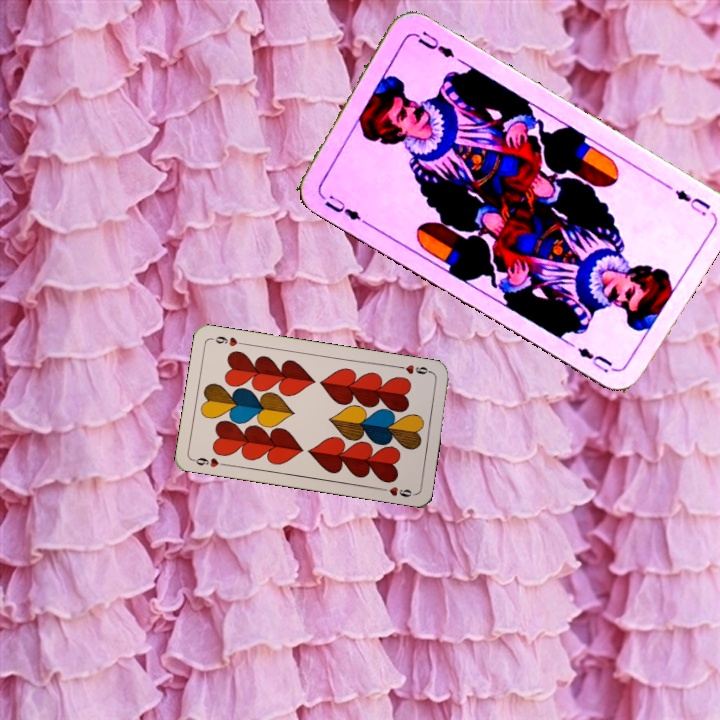EU: (315, 187, 368, 226), (671, 186, 713, 219)
H9: (189, 453, 230, 470), (394, 360, 435, 377)
